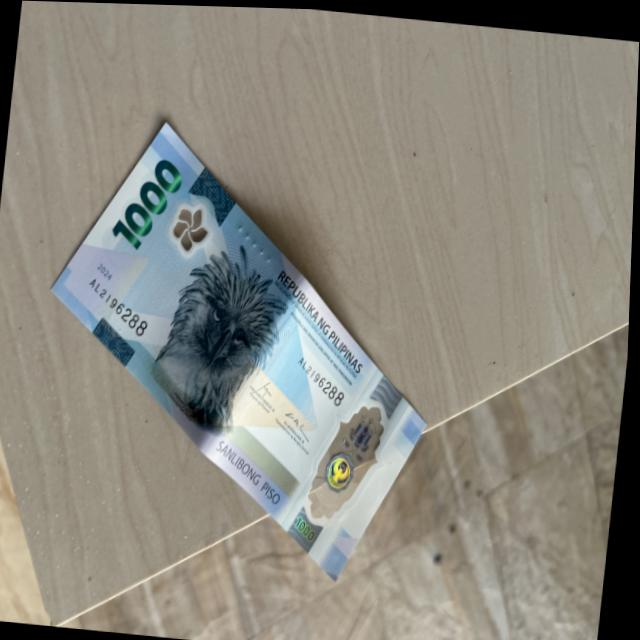clear_window: (302, 389, 392, 536)
eagle: (170, 249, 282, 417)
sampaguita: (174, 200, 209, 251)
